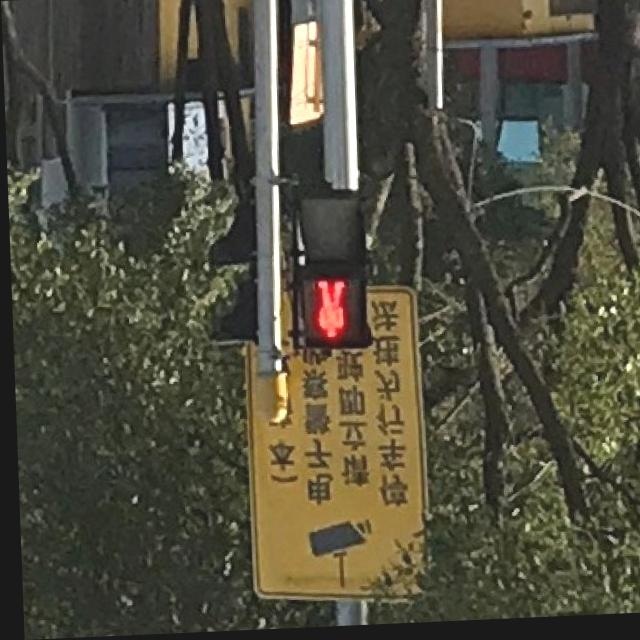red_light: (293, 274, 359, 353)
